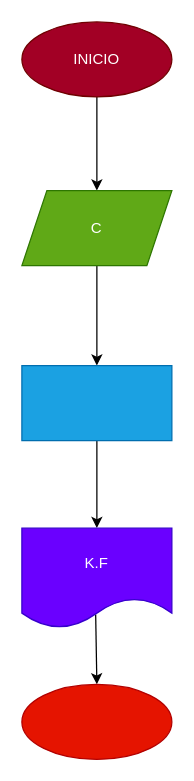
The diagram is 194 pixels wide and 781 high, and some of its shapes have lost their labels. Here are the shapes that lost their labels. From the top down, the centre of each, then its label:
At (96,402): "K=°C + 273.15 F=(°C * 9/5) + 32".
At (96,721): "FIN".
